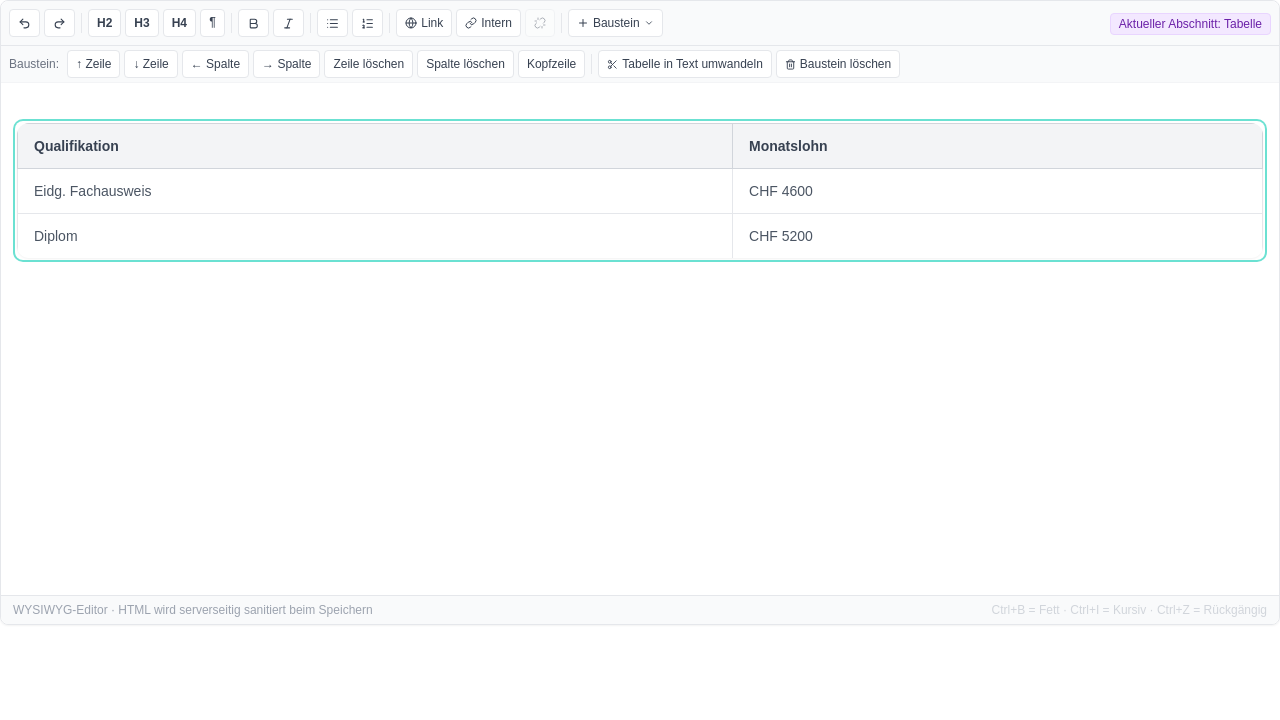
Test: 4/5 – Bestätigen führt genau einmal aus › Zeile löschen entfernt genau die Zielzeile
The image size is (1280, 720).
Press the mouse on the button with test id "btn-del-row": (369, 64) [324,50,413,78]
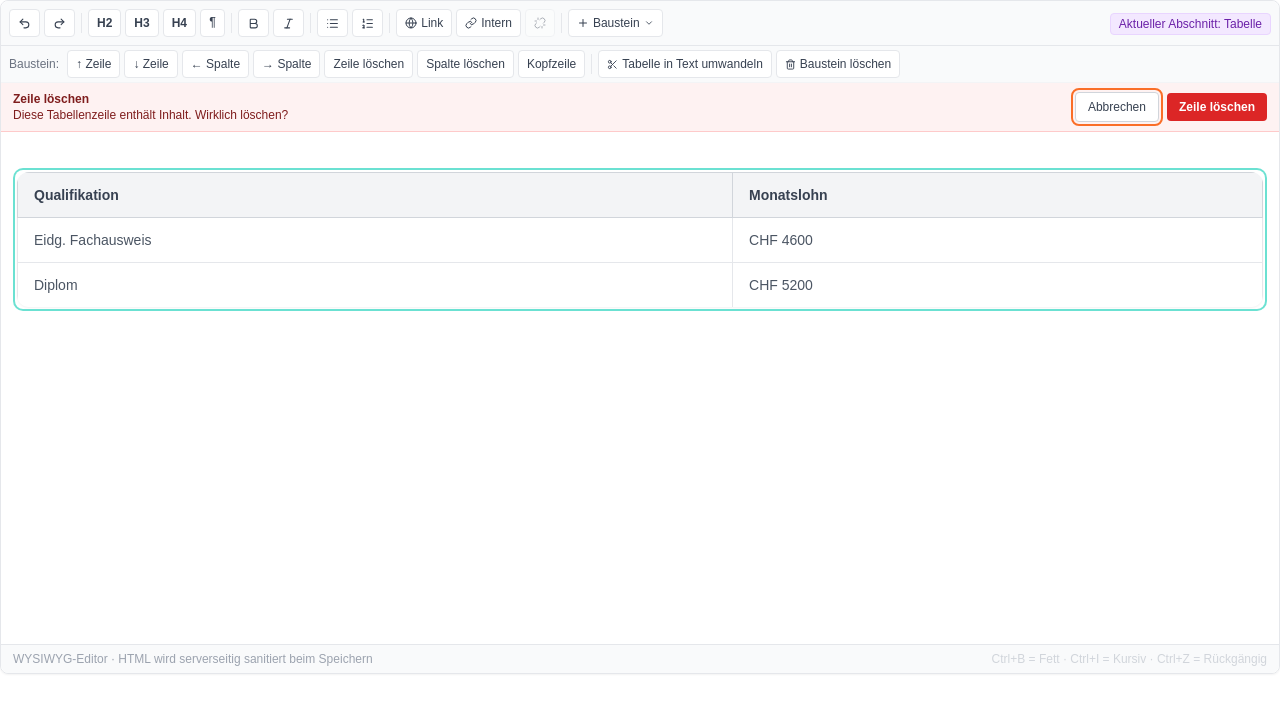
Click the button with test id "block-confirm-accept": click(1217, 107) [1167,93,1267,121]
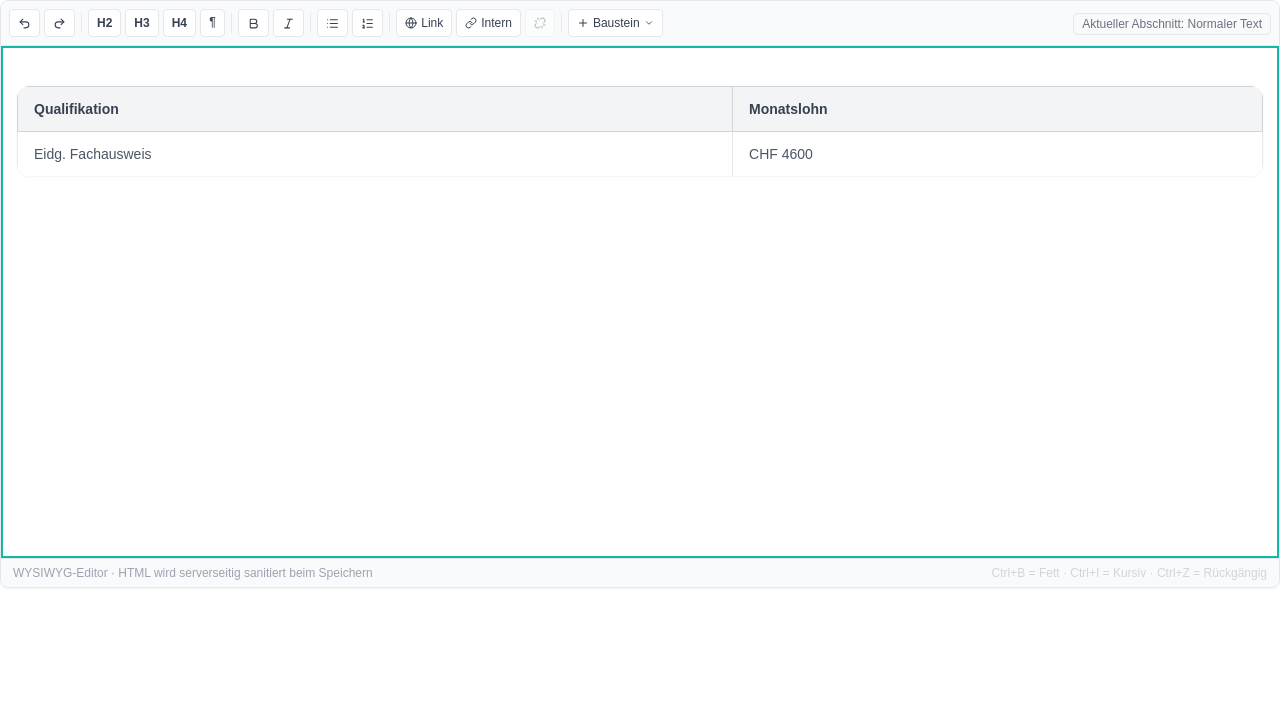
expect the cell with test id "confirm-editor" no longer shows "Diplom": met
